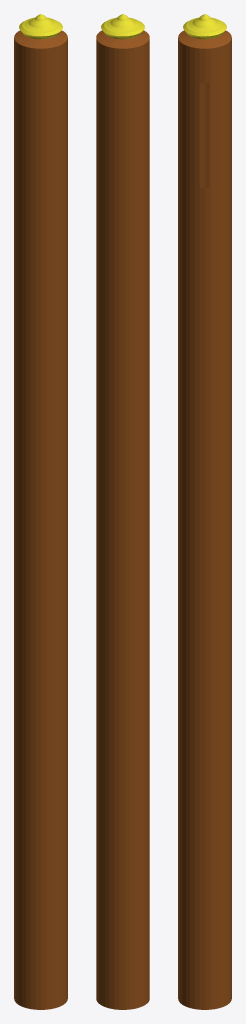
File: FlagPole3.fbx
3 views of the same model, side by side, from view 1: azimuth 90°, elevation 25°; view 2: azimuth 150°, elevation 25°; view 3: azimuth 270°, elevation 25° (orthographic).
Parts seen in each view (by area): view 1: Blue flag; view 2: Blue flag; view 3: Blue flag.
Boxes of the visible parts, box(x1,y1,x2,y2) form: Blue flag: box(14, 14, 67, 1009); Blue flag: box(96, 14, 149, 1009); Blue flag: box(178, 14, 231, 1009).
Size of the model in its own units: 10000 by 202015 by 10000.
